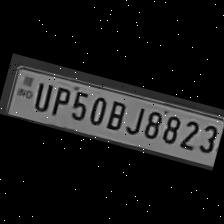0: (84, 90, 110, 128)
2: (174, 115, 202, 152)
3: (193, 119, 220, 156)
5: (64, 85, 92, 123)
8: (138, 105, 166, 142), (158, 110, 184, 148)
B: (101, 95, 130, 133)
J: (121, 100, 147, 138)
P: (45, 81, 72, 118)
U: (27, 78, 54, 114)
